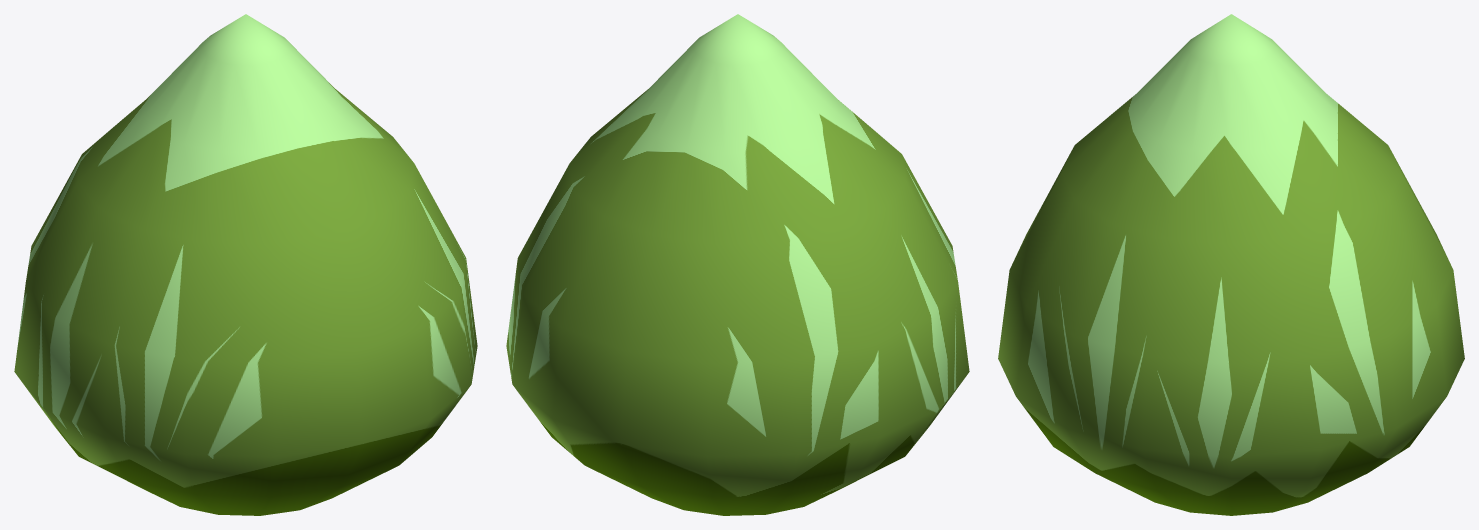
Rendered from ITMC_Lechuga.FBX.
The picture shows the model from 3 angles, left to right: view 1: azimuth 30°, elevation 25°; view 2: azimuth 150°, elevation 25°; view 3: azimuth 270°, elevation 25°; orthographic projection.
Parts seen in each view (by area): view 1: ITMC_Lechuga; view 2: ITMC_Lechuga; view 3: ITMC_Lechuga.
Part boxes in pixels (box(x1,y1,x2,y2)): ITMC_Lechuga: box(14, 14, 477, 515); ITMC_Lechuga: box(506, 14, 969, 515); ITMC_Lechuga: box(998, 14, 1464, 515).
Bounding box in the file's own units: 0.8156 × 0.9172 × 0.8156.
